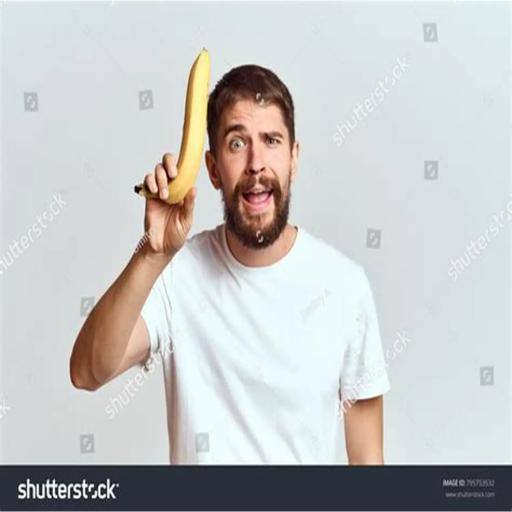banana: (166, 48, 209, 204)
